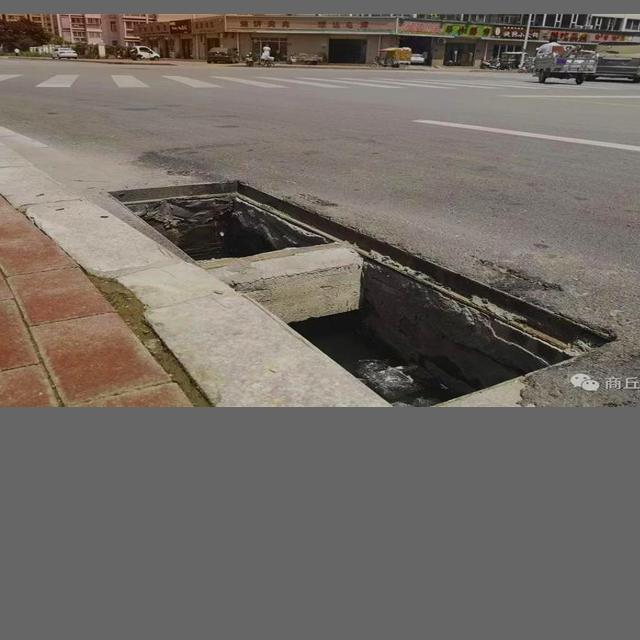lose: (84, 174, 620, 403)
